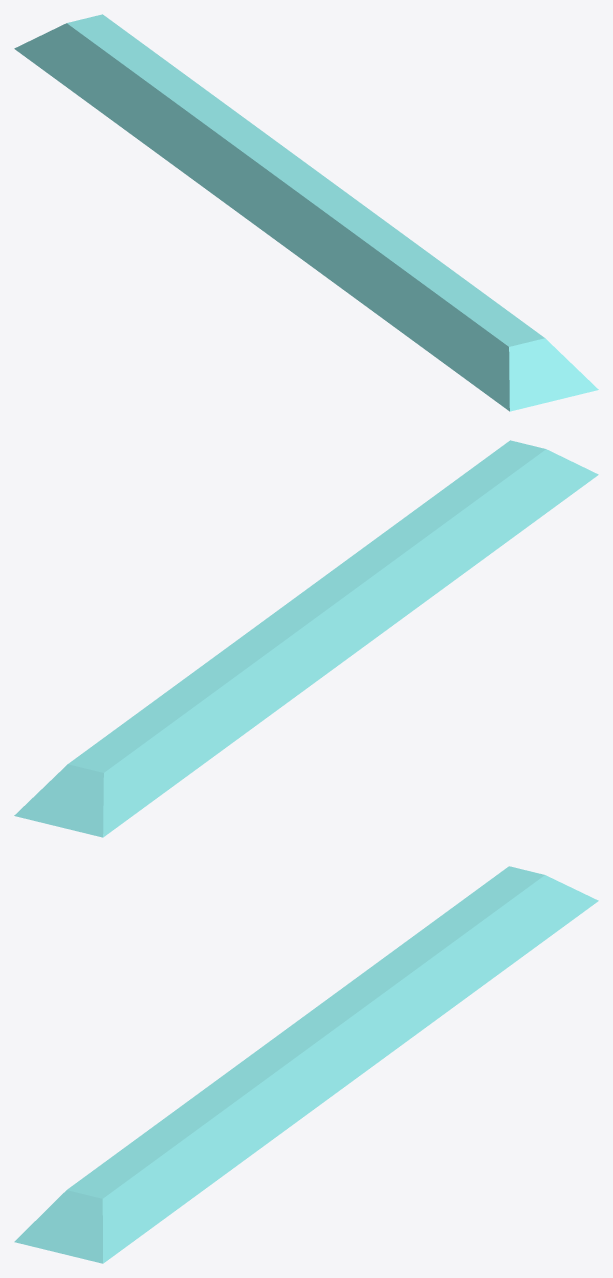
File: lampe_pont.FBX
3 views of the same model, one above another, from view 1: azimuth 30°, elevation 25°; view 2: azimuth 150°, elevation 25°; view 3: azimuth 330°, elevation 25° (orthographic).
Parts seen in each view (by area): view 1: Lampe_; view 2: Lampe_; view 3: Lampe_.
Boxes of the visible parts, x1,y1,x2,y2 form: Lampe_: (14,14,598,411); Lampe_: (14,440,598,837); Lampe_: (14,866,598,1263).
Bounding box in the file's own units: 3.76 × 1.56 × 36.19.
